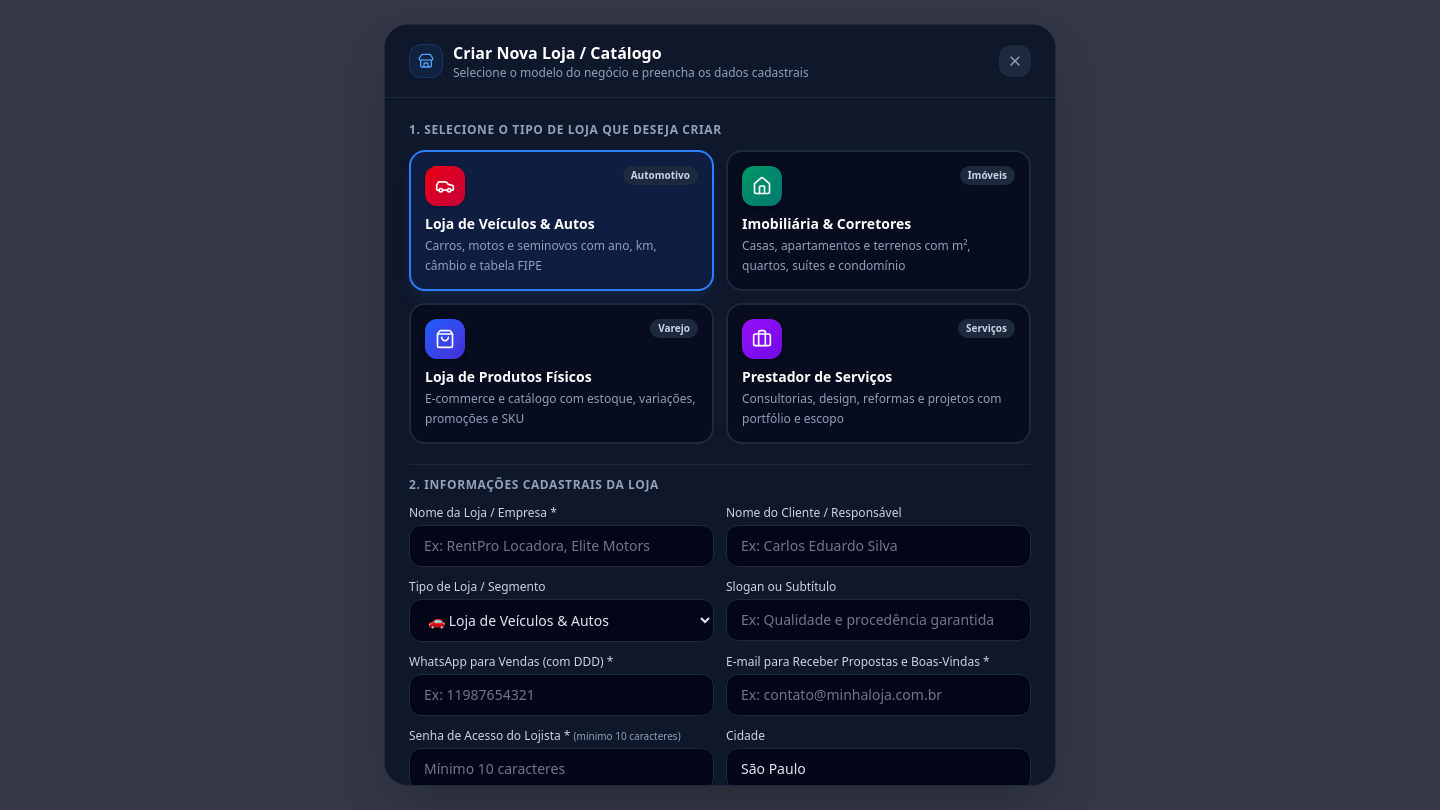
StoreCreatorModal - Tratamento de Erros e Usabilidade › Componente StoreCreatorModal - Exibição, Scroll e Foco de Erro › rola suavemente e foca na faixa de erro no topo com role="alert" ao falhar com 409
The image size is (1440, 810).
Type "Auto Peças Modelo" into the field with placeholder "Ex: RentPro Locadora, Elite Motors".
click(562, 546); type("Auto Peças Modelo")  # box [409,525,714,567]
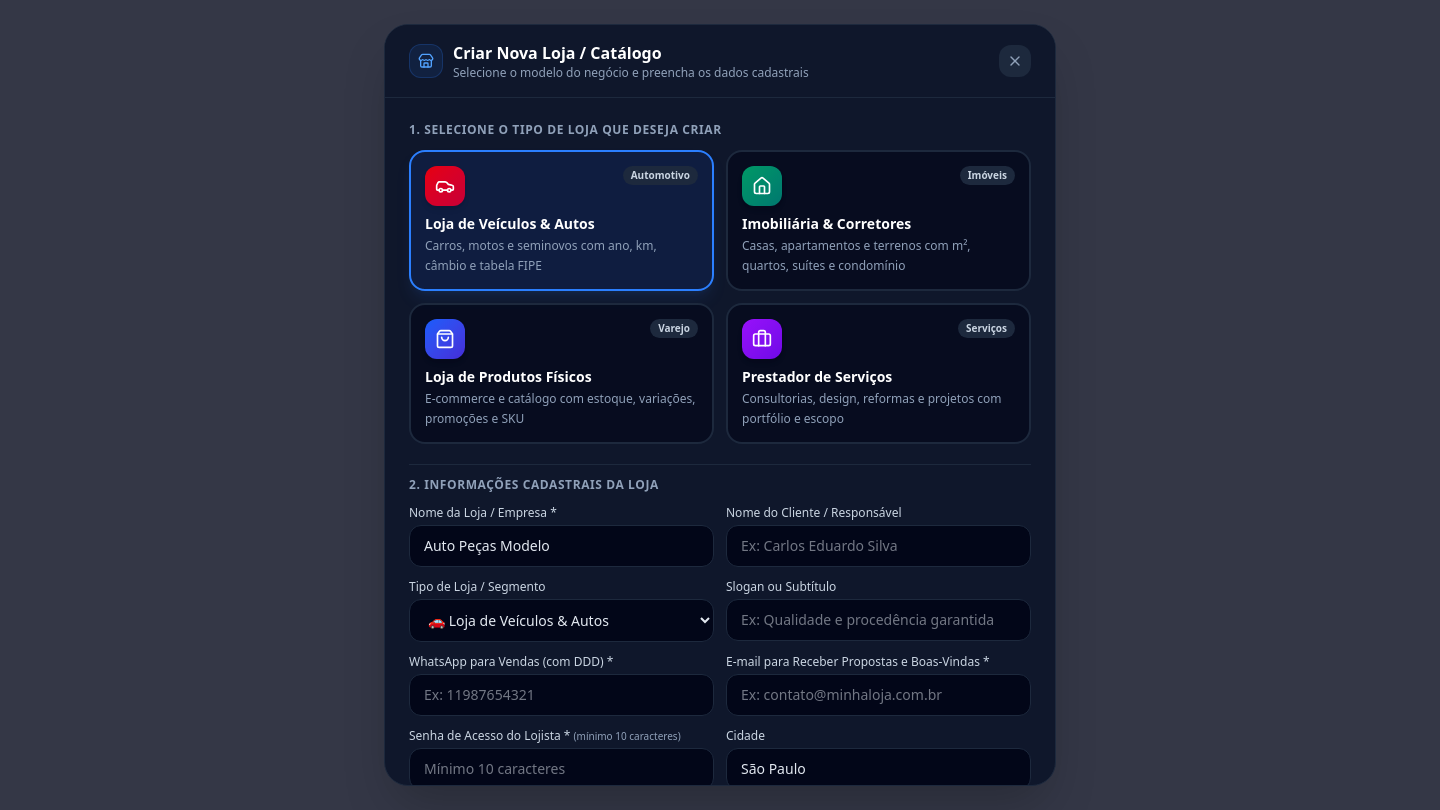
Type "11988887777" into the field with placeholder "Ex: 11987654321".
click(562, 695); type("11988887777")  # box [409,674,714,716]
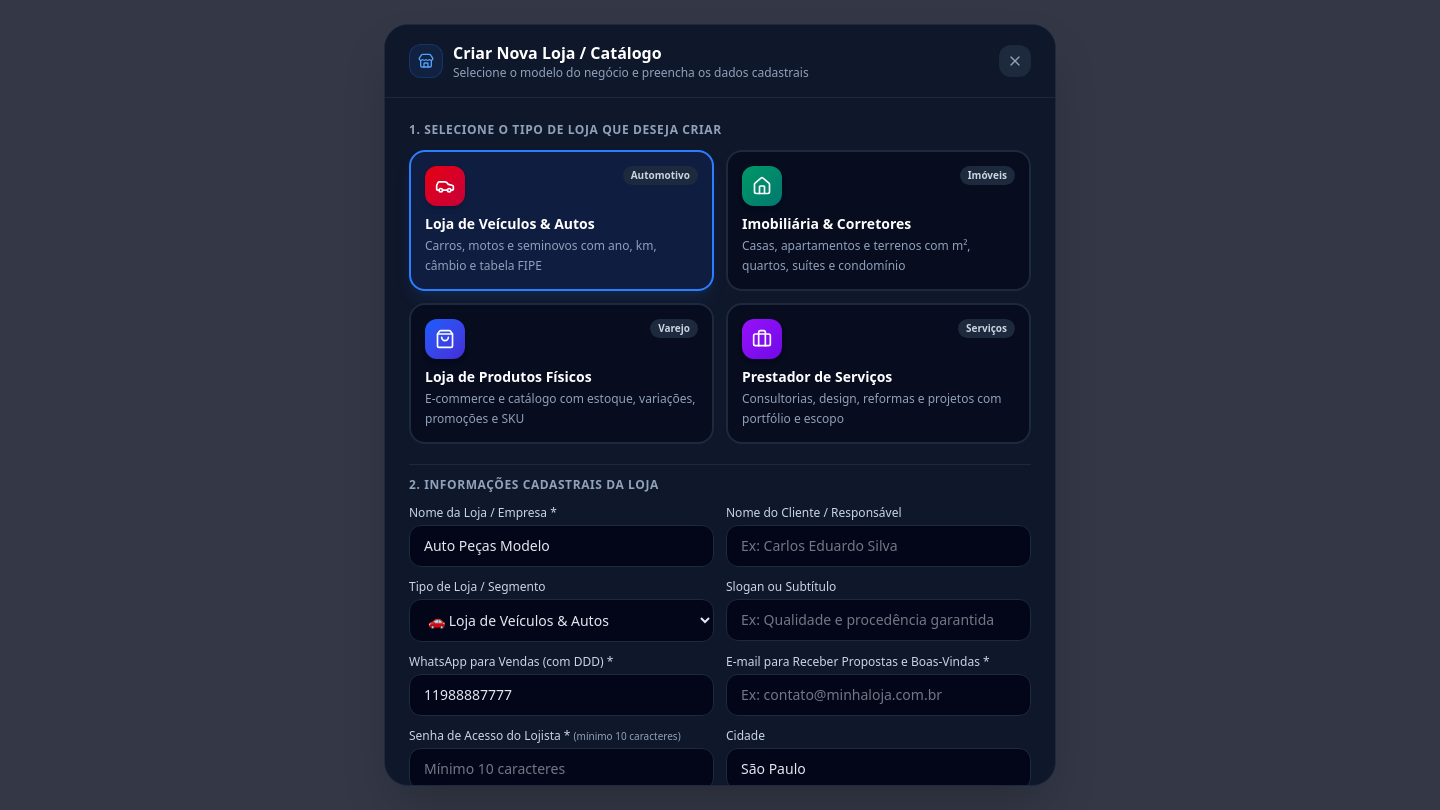
Type "contato@modelo.com" into the field with placeholder "Ex: contato@minhaloja.com.br".
click(878, 695); type("contato@modelo.com")  # box [726,674,1031,716]
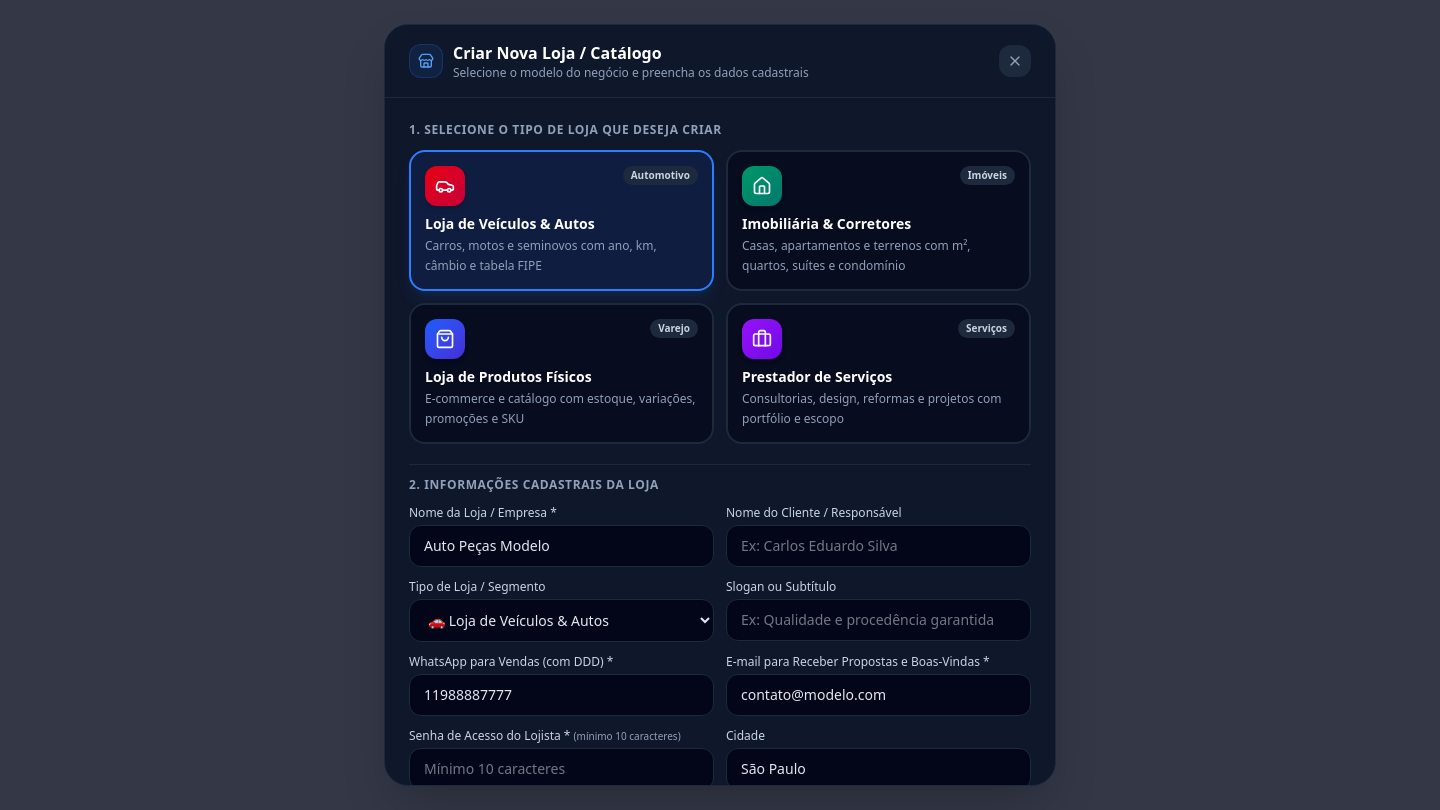
Type "SenhaSegura123!" into the password field with placeholder "Mínimo 10 caracteres".
click(562, 769); type("SenhaSegura123!")  # box [409,748,714,790]
(page scrolled)
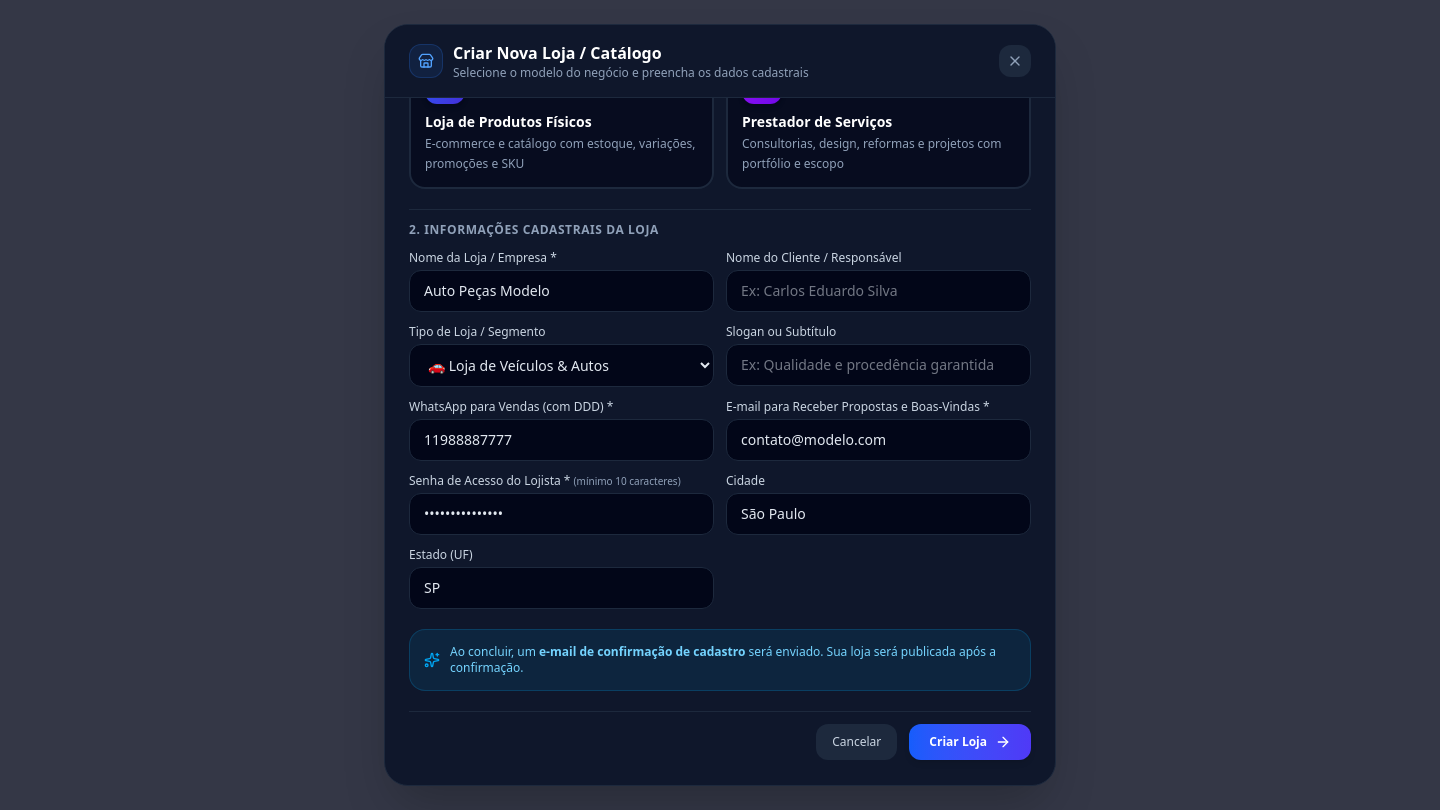
Click the button "Criar Loja".
click(970, 742)  # box [909,724,1031,760]
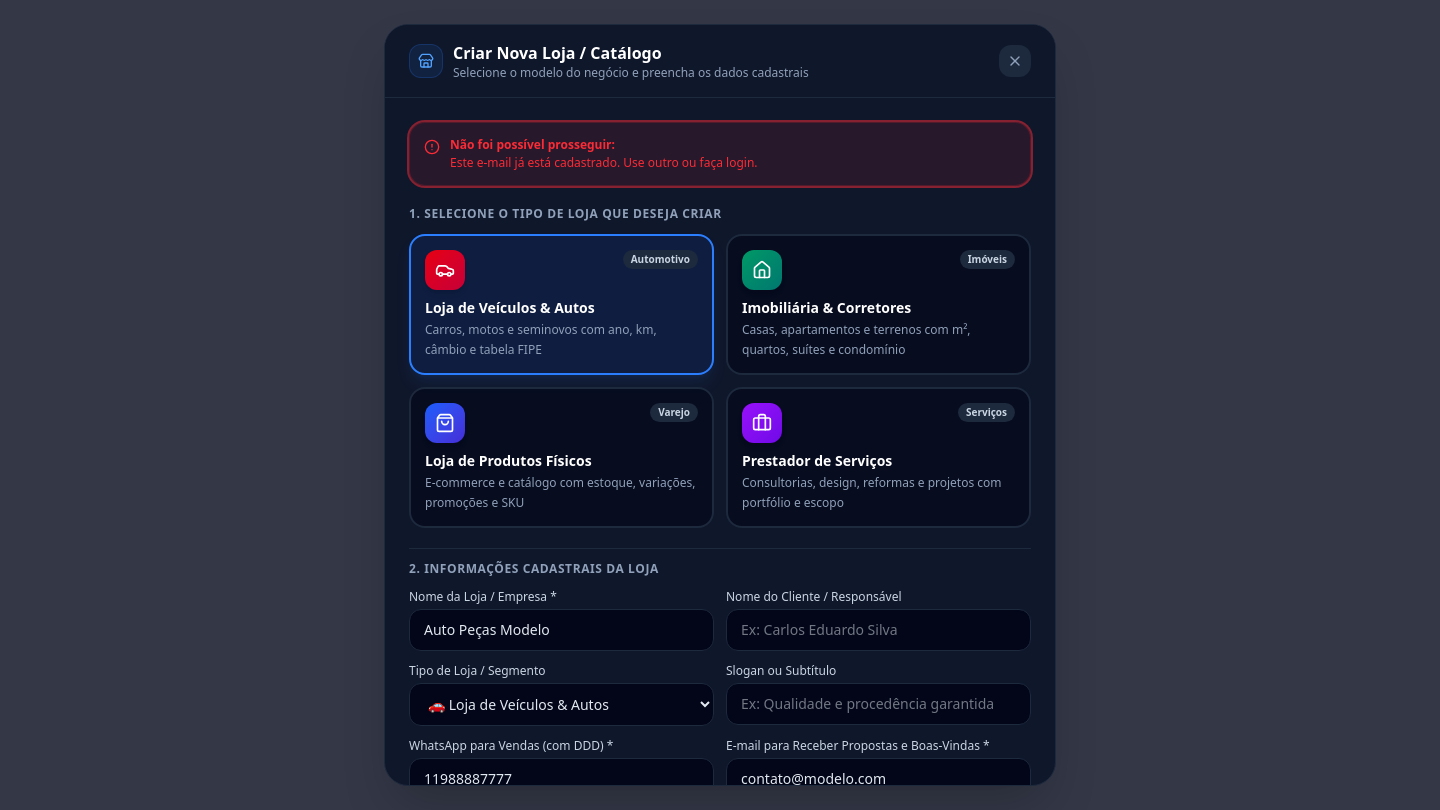
Check: the message with test id "top-error-message" is shown, box [409,122,1031,186]
Check: the message with test id "top-error-message" shows "Este e-mail já está cadastrado. Use outro ou faça login.", box [450,154,758,171]
